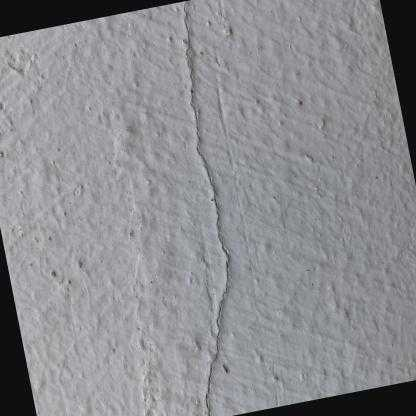crack: (183, 0, 229, 416)
